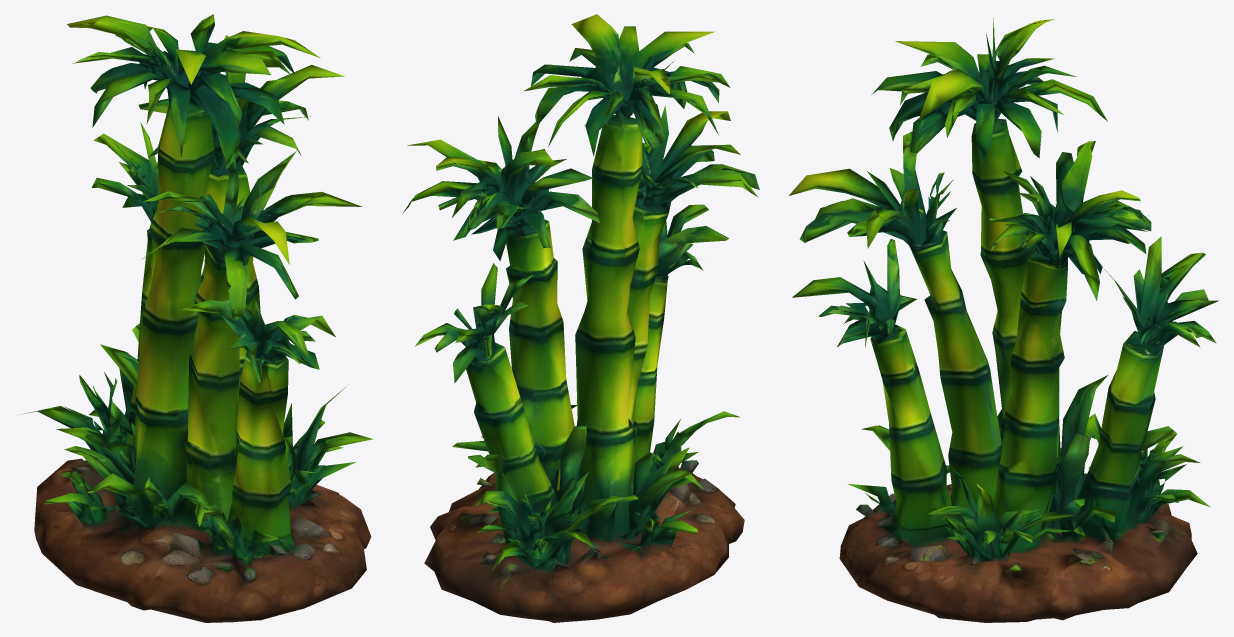
Rendered from bamboo-low.glb.
The picture shows the model from 3 angles, left to right: view 1: azimuth 30°, elevation 25°; view 2: azimuth 150°, elevation 25°; view 3: azimuth 270°, elevation 25°; orthographic projection. The views are drawn at different scales.
Visible parts, largest first — view 1: tripo_node_e261f41e-febd-4202-9514-f42c4dc07817; view 2: tripo_node_e261f41e-febd-4202-9514-f42c4dc07817; view 3: tripo_node_e261f41e-febd-4202-9514-f42c4dc07817.
Boxes of the visible parts, x1,y1,x2,y2 form: tripo_node_e261f41e-febd-4202-9514-f42c4dc07817: (17,14,373,622); tripo_node_e261f41e-febd-4202-9514-f42c4dc07817: (402,14,759,622); tripo_node_e261f41e-febd-4202-9514-f42c4dc07817: (789,18,1218,622).
Size of the model in its own units: 0.5868 by 0.9997 by 0.7738.
Materials: 1 (1 with a texture image).
